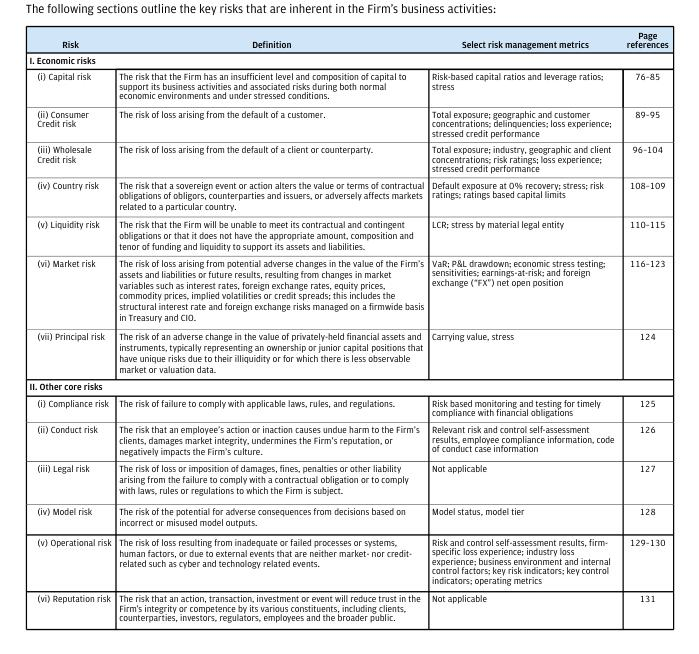table: (28, 29, 667, 622)
table column: (114, 29, 427, 622), (427, 29, 619, 622), (28, 29, 114, 622), (619, 29, 667, 622)
table column header: (28, 29, 667, 51)
table projected row header: (28, 377, 667, 394), (28, 51, 667, 67)
table row: (28, 254, 667, 326), (28, 531, 667, 588), (28, 326, 667, 377), (28, 459, 667, 500), (28, 176, 667, 215), (28, 215, 667, 254), (28, 420, 667, 459), (28, 67, 667, 104), (28, 104, 667, 141), (28, 141, 667, 176), (28, 588, 667, 622), (28, 500, 667, 531), (28, 394, 667, 420), (28, 29, 667, 51), (28, 377, 667, 394), (28, 51, 667, 67)
